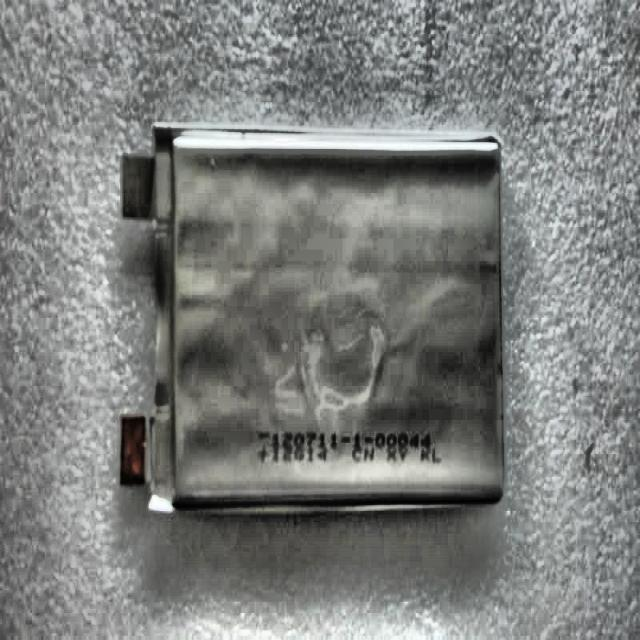Non-Valuable Waste - Batteries: (122, 124, 504, 511)
